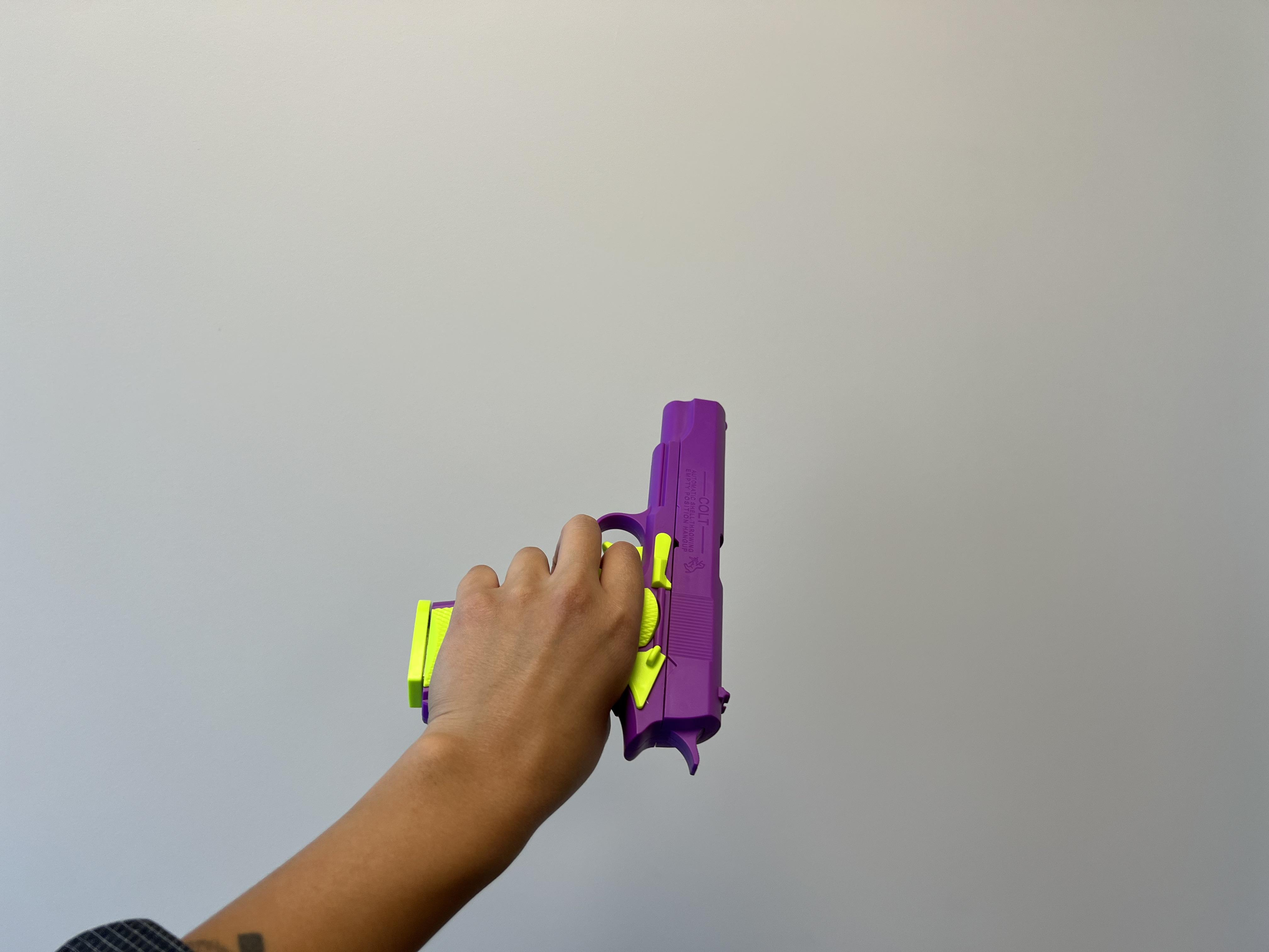Knife: (0, 513, 651, 952), (398, 392, 732, 779), (422, 494, 650, 806)
